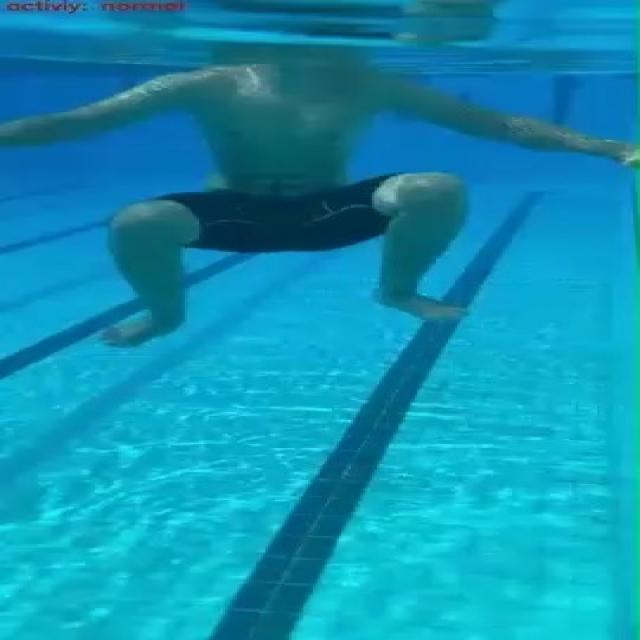Drowning: (0, 4, 640, 356)
